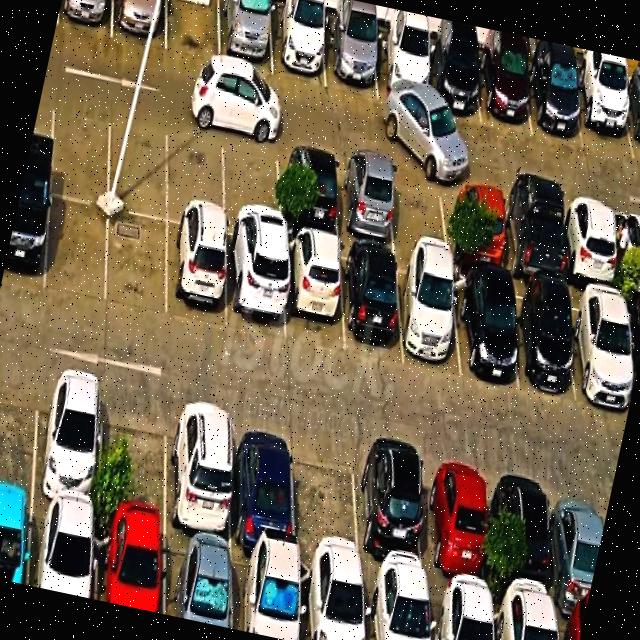empty: (99, 382, 167, 530), (294, 426, 360, 571), (108, 106, 170, 220), (45, 195, 109, 303), (49, 93, 110, 205), (106, 209, 167, 319), (223, 131, 280, 245), (167, 120, 224, 232), (388, 164, 448, 256), (0, 360, 39, 498), (166, 0, 220, 63)
occupied: (354, 439, 427, 585), (32, 367, 102, 514), (422, 450, 487, 598), (166, 397, 231, 544), (231, 411, 294, 554), (497, 464, 555, 609), (451, 270, 518, 389), (567, 287, 632, 409), (506, 280, 574, 395), (396, 256, 460, 377), (551, 476, 604, 615), (341, 244, 403, 361), (283, 233, 343, 352), (163, 532, 231, 628), (28, 503, 95, 599), (96, 518, 163, 614), (166, 222, 226, 329), (500, 187, 564, 285), (225, 237, 284, 342), (232, 547, 298, 640), (445, 176, 506, 271), (278, 143, 339, 238), (572, 69, 633, 159), (336, 154, 395, 247), (561, 198, 619, 290), (1, 184, 50, 291), (299, 560, 364, 640), (527, 55, 582, 147), (477, 46, 531, 135), (423, 39, 480, 123), (270, 2, 325, 87), (372, 28, 428, 110), (363, 577, 429, 640), (324, 18, 376, 96), (219, 0, 272, 75), (428, 587, 492, 640), (0, 497, 32, 585), (111, 0, 166, 49), (492, 599, 556, 640), (613, 207, 640, 293), (57, 0, 112, 37), (619, 78, 640, 161), (623, 298, 640, 388), (555, 610, 585, 640)
